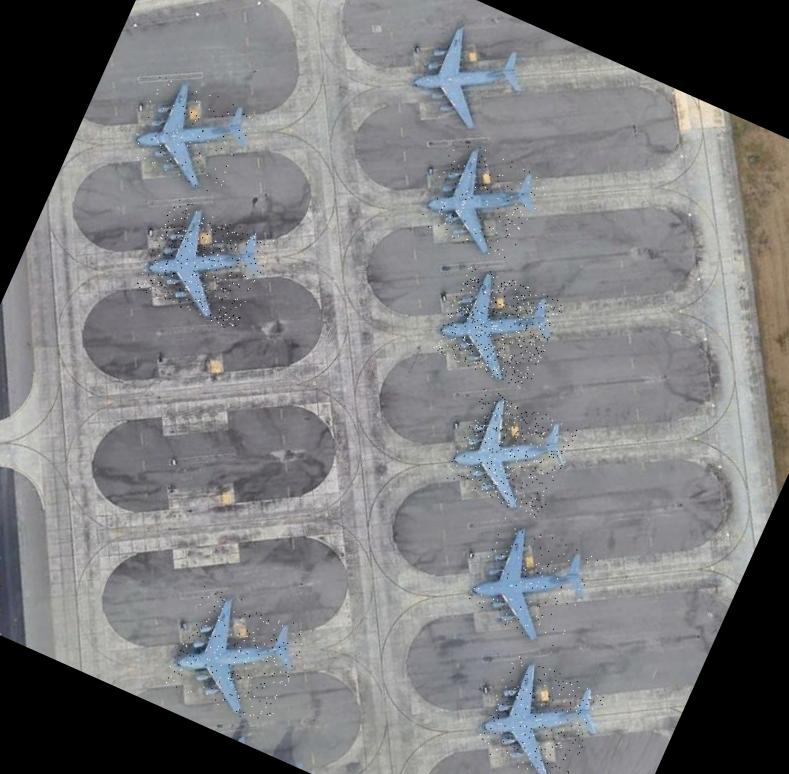A3: (161, 583, 311, 729), (134, 196, 274, 332), (443, 386, 579, 521), (462, 516, 598, 651), (431, 261, 565, 392), (418, 136, 551, 264), (404, 15, 536, 142), (125, 71, 258, 197), (471, 652, 606, 774)
